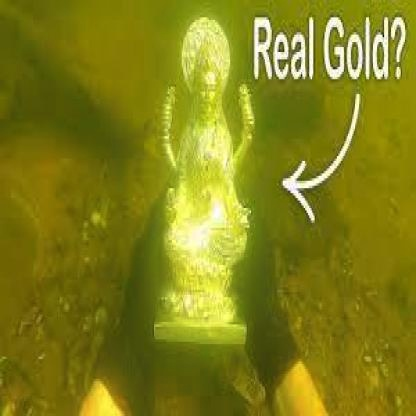metal: (150, 15, 251, 354)
